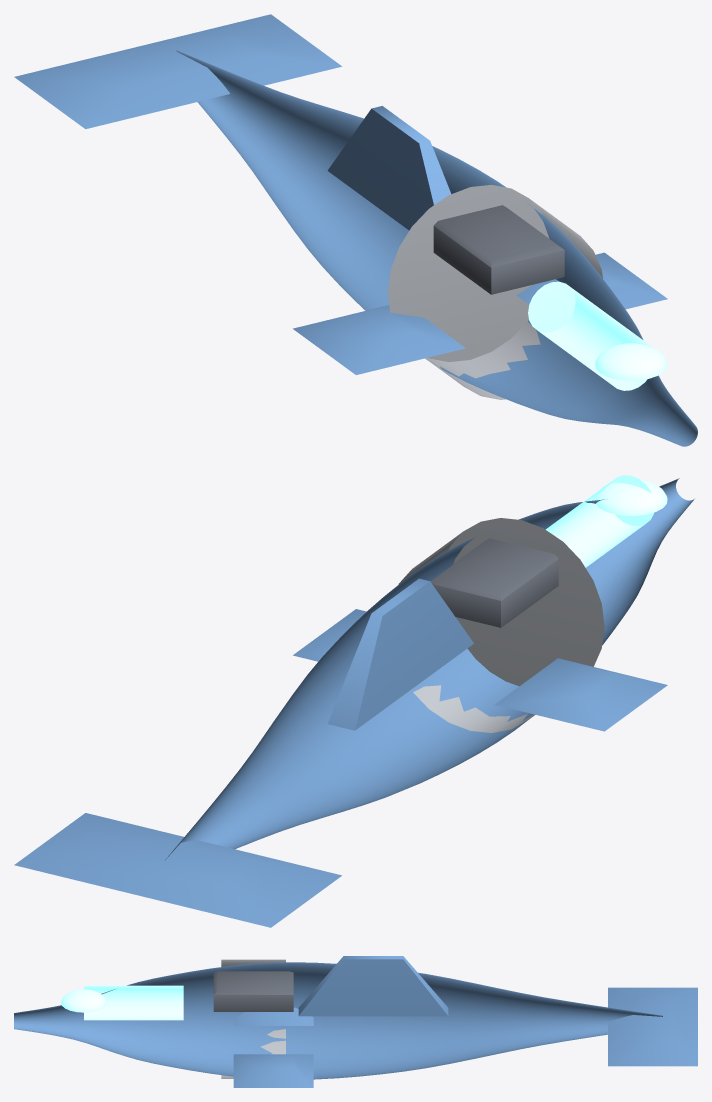
File: dlph.glb
The picture shows the model from 3 angles, top to bottom: view 1: azimuth 30°, elevation 25°; view 2: azimuth 150°, elevation 25°; view 3: azimuth 270°, elevation 25°; orthographic projection. The views are drawn at different scales.
Parts seen in each view (by area): view 1: Hull; view 2: Hull; view 3: Hull.
Part boxes in pixels (x1,y1,x2,y2): Hull: [14, 14, 697, 446]; Hull: [14, 475, 694, 927]; Hull: [14, 956, 697, 1087].
Bounding box in the file's own units: 1.36 × 0.7736 × 4.11.
